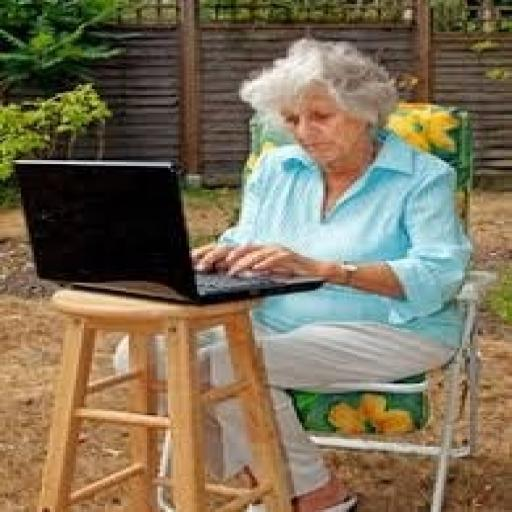using_laptop: (10, 156, 326, 305)
